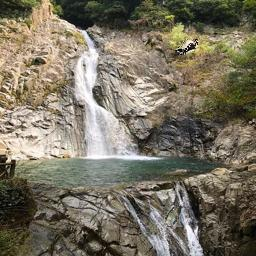Swallow: (165, 203, 184, 227)
Woodpecker: (174, 37, 199, 55)
